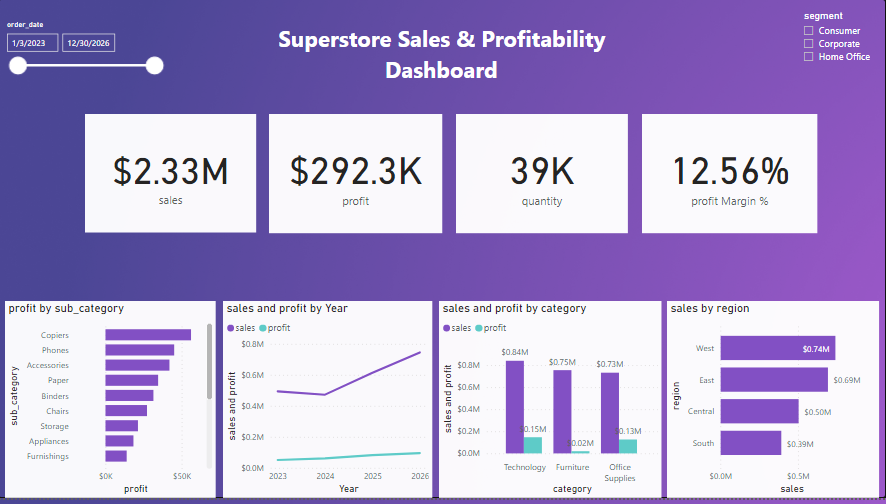

What the dashboard file says about the page in this screenshot:
{"tool":"powerbi","page":{"name":"Page 1","canvas":[1280,720],"ordinal":0},"visuals":[{"type":"textbox","box":[365.4,25.2,549.3,120.9],"z":1000},{"type":"card","fields":{"Values":["Sum(cleaned_data.sales)"]},"box":[126,166.3,246.9,171.3],"z":3000},{"type":"card","fields":{"Values":["Sum(cleaned_data.profit)"]},"box":[391,165.9,249.6,171.7],"z":4000},{"type":"card","fields":{"Values":["Sum(cleaned_data.quantity)"]},"box":[660.8,165.9,248.2,171.7],"z":5000},{"type":"clusteredColumnChart","fields":{"Category":["cleaned_data.category"],"Y":["Sum(cleaned_data.sales)","Sum(cleaned_data.profit)"]},"box":[636.6,436.1,320.8,283.9],"z":6000},{"type":"slicer","fields":{"Values":["cleaned_data.segment"]},"box":[1150.1,11.5,129.9,125.5],"z":6500},{"type":"clusteredBarChart","fields":{"Category":["cleaned_data.region"],"Y":["Sum(cleaned_data.sales)"]},"box":[965.9,436.1,305.7,283.9],"z":7000},{"type":"card","fields":{"Values":["cleaned_data.Profit Margin %"]},"box":[929.2,165.9,252.5,171.7],"z":8001},{"type":"lineChart","fields":{"Category":["cleaned_data.order_date.Variation.Date Hierarchy.Year","cleaned_data.order_date.Variation.Date Hierarchy.Quarter","cleaned_data.order_date.Variation.Date Hierarchy.Month","cleaned_data.order_date.Variation.Date Hierarchy.Day"],"Y":["Sum(cleaned_data.sales)","Sum(cleaned_data.profit)"]},"box":[324.2,436.1,302.4,283.9],"z":8002},{"type":"slicer","fields":{"Values":["cleaned_data.order_date"]},"box":[0,26,246.7,122.6],"z":8003},{"type":"clusteredBarChart","fields":{"Category":["cleaned_data.sub_category"],"Y":["Sum(cleaned_data.profit)"]},"box":[10.1,436.1,304,283.9],"z":8004}]}

Visuals, with their boxes in screenshot pixels (x1, y1, x2, y2), scaled from the page's 1280x720 canvas onto the 886x504 screenshot:
textbox: BBox(253, 18, 633, 102)
card - Sum(cleaned_data.sales): BBox(87, 116, 258, 236)
card - Sum(cleaned_data.profit): BBox(271, 116, 443, 236)
card - Sum(cleaned_data.quantity): BBox(457, 116, 629, 236)
clusteredColumnChart - cleaned_data.category x Sum(cleaned_data.sales): BBox(441, 305, 663, 503)
slicer - cleaned_data.segment: BBox(796, 8, 885, 96)
clusteredBarChart - cleaned_data.region x Sum(cleaned_data.sales): BBox(669, 305, 880, 503)
card - cleaned_data.Profit Margin %: BBox(643, 116, 818, 236)
lineChart - cleaned_data.order_date.Variation.Date Hierarchy.Year x cleaned_data.order_date.Variation.Date Hierarchy.Quarter: BBox(224, 305, 434, 503)
slicer - cleaned_data.order_date: BBox(0, 18, 171, 104)
clusteredBarChart - cleaned_data.sub_category x Sum(cleaned_data.profit): BBox(7, 305, 217, 503)
